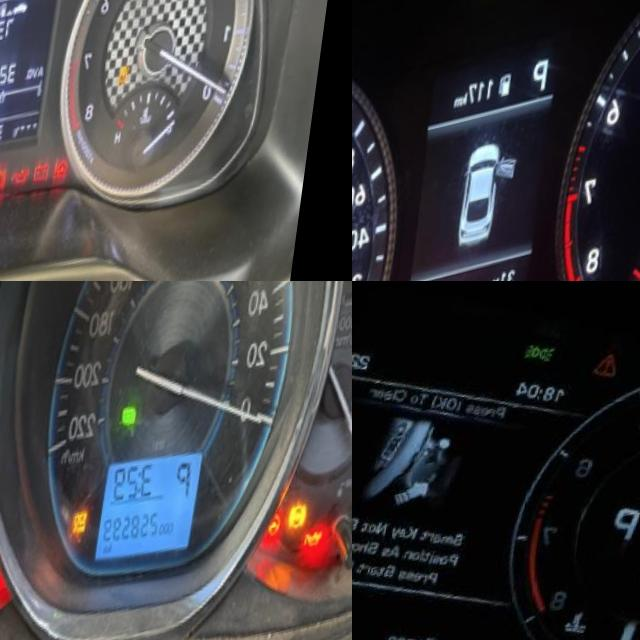Electronic Power Steering: (63, 174, 85, 206)
Engine cooling system: (566, 623, 605, 640)
